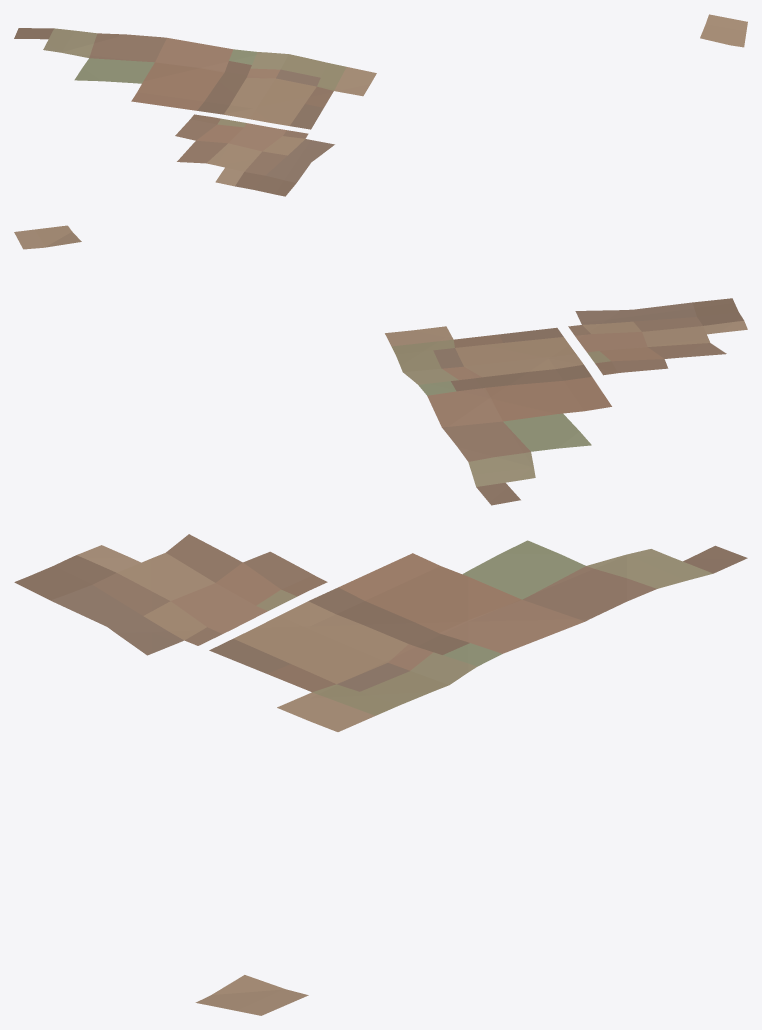
The model's file is farm_8_18_soil.glb.
The picture shows the model from 3 angles, top to bottom: view 1: azimuth 30°, elevation 25°; view 2: azimuth 150°, elevation 25°; view 3: azimuth 270°, elevation 25°; orthographic projection. The views are drawn at different scales.
Parts seen in each view (by area): view 1: geometry_0; view 2: geometry_0; view 3: geometry_0.
Part boxes in pixels (x1,y1,x2,y2): geometry_0: [14, 14, 747, 196]; geometry_0: [14, 225, 747, 505]; geometry_0: [14, 534, 747, 1015].
Bounding box in the file's own units: 535 × 23.43 × 371.
